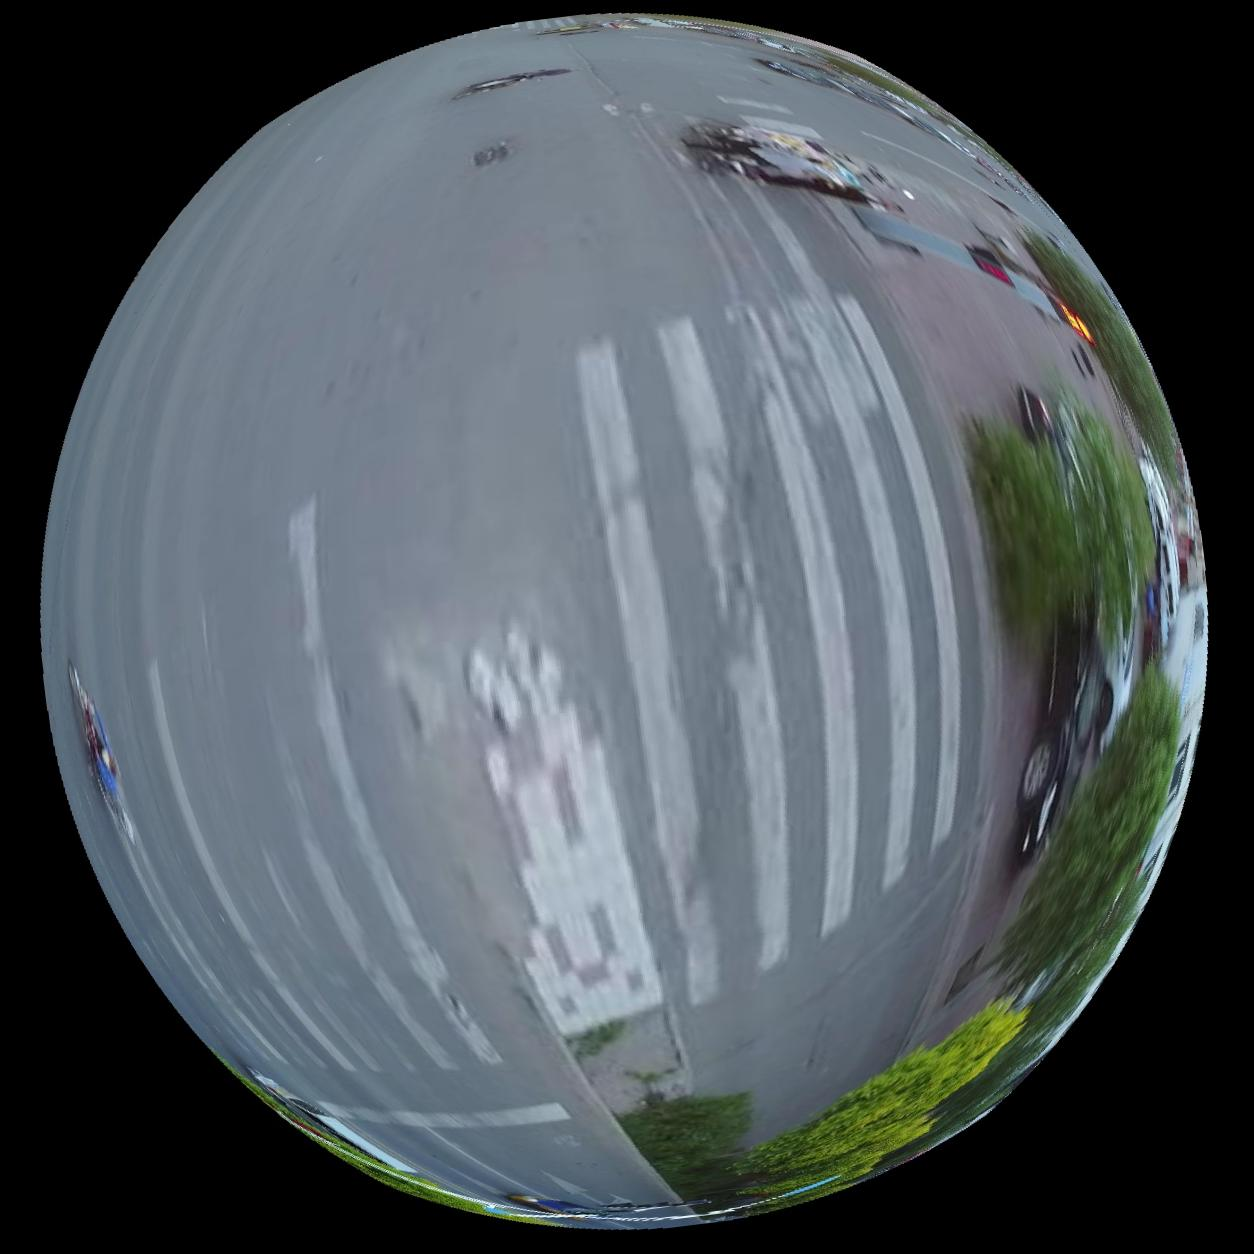cars: (1020, 596, 1138, 866)
trees: (923, 669, 1184, 1147), (618, 999, 1028, 1221), (973, 401, 1156, 643)
